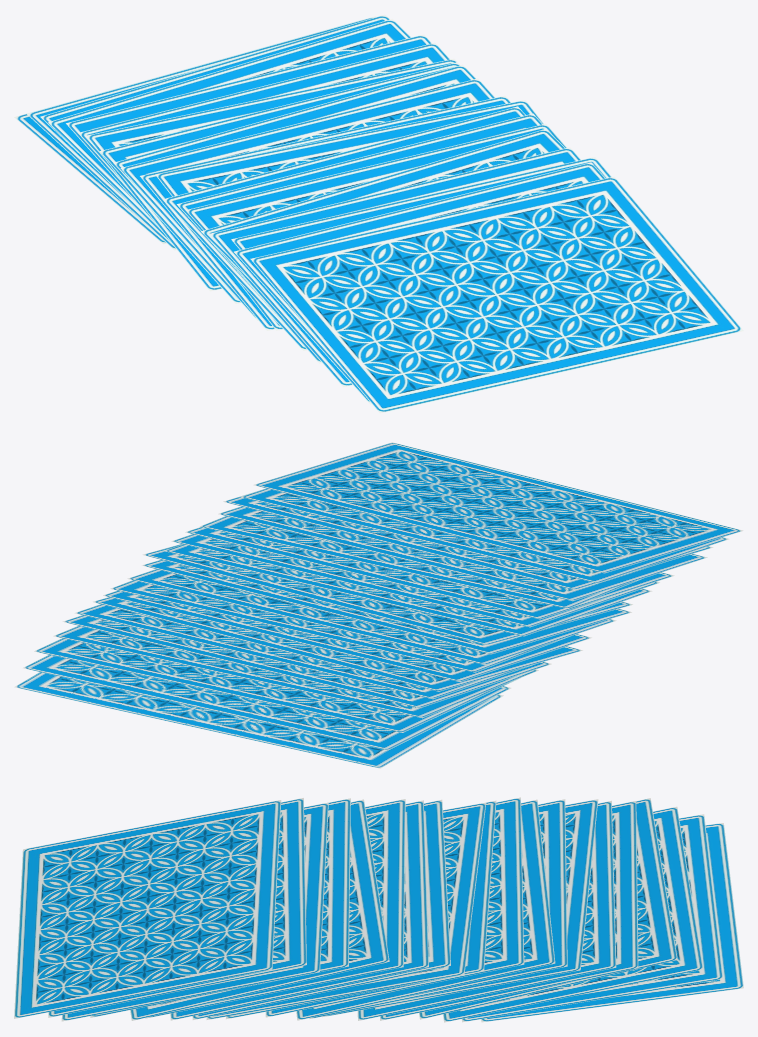
3 renders of one model, top to bottom at view 1: azimuth 30°, elevation 25°; view 2: azimuth 150°, elevation 25°; view 3: azimuth 270°, elevation 25°, orthographic. The views are drawn at different scales.
Visible parts, largest first — view 1: Cards; view 2: Cards; view 3: Cards.
Part boxes in pixels (bbox=[...]): Cards: bbox=[14, 14, 743, 413]; Cards: bbox=[14, 442, 743, 768]; Cards: bbox=[14, 797, 743, 1022].
Size of the model in its own units: 1.59 by 0.2398 by 2.76.
Materials: 1 (1 with a texture image).
